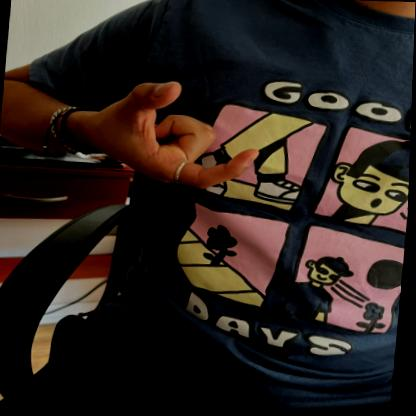G: (81, 70, 273, 202)
